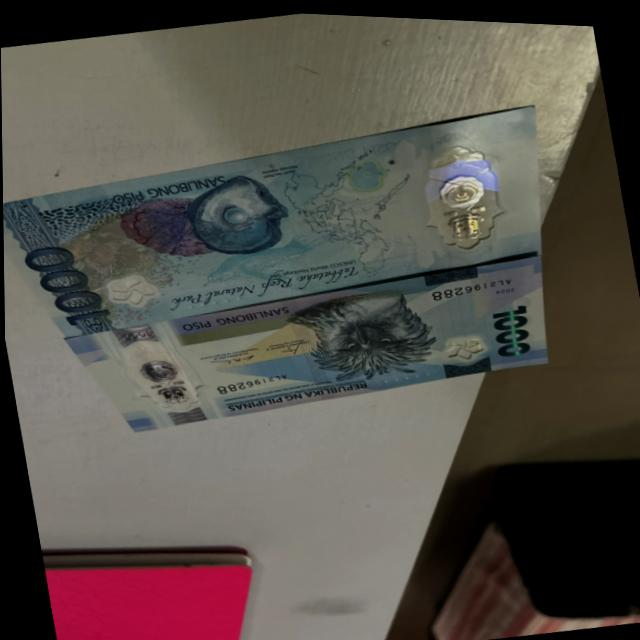clear_window: (412, 134, 512, 251), (102, 319, 204, 424)
eagle: (292, 285, 440, 381)
sampaguita: (105, 267, 159, 308), (439, 325, 488, 361)
serial_number: (423, 266, 528, 301), (200, 361, 293, 397)
value: (19, 233, 110, 336), (483, 297, 533, 358)
